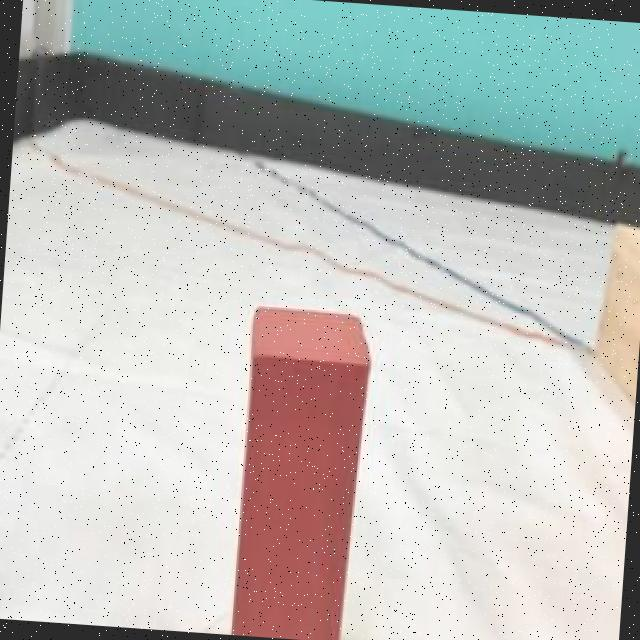redbox: (225, 302, 371, 640)
